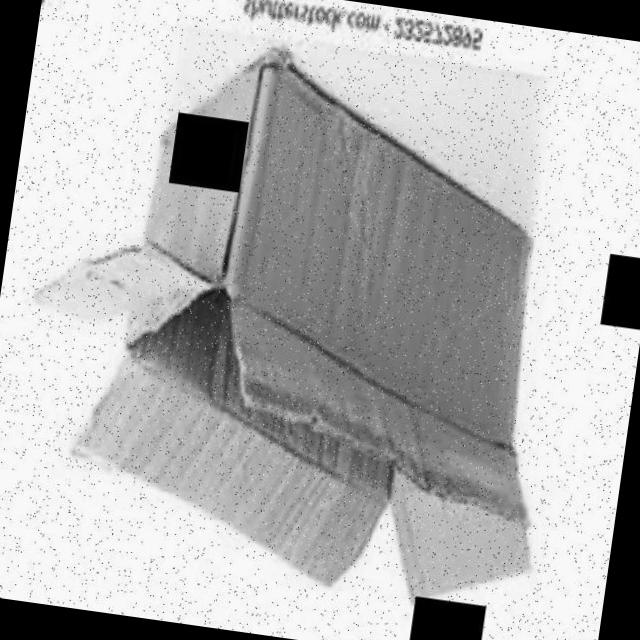box: (0, 16, 603, 627)
